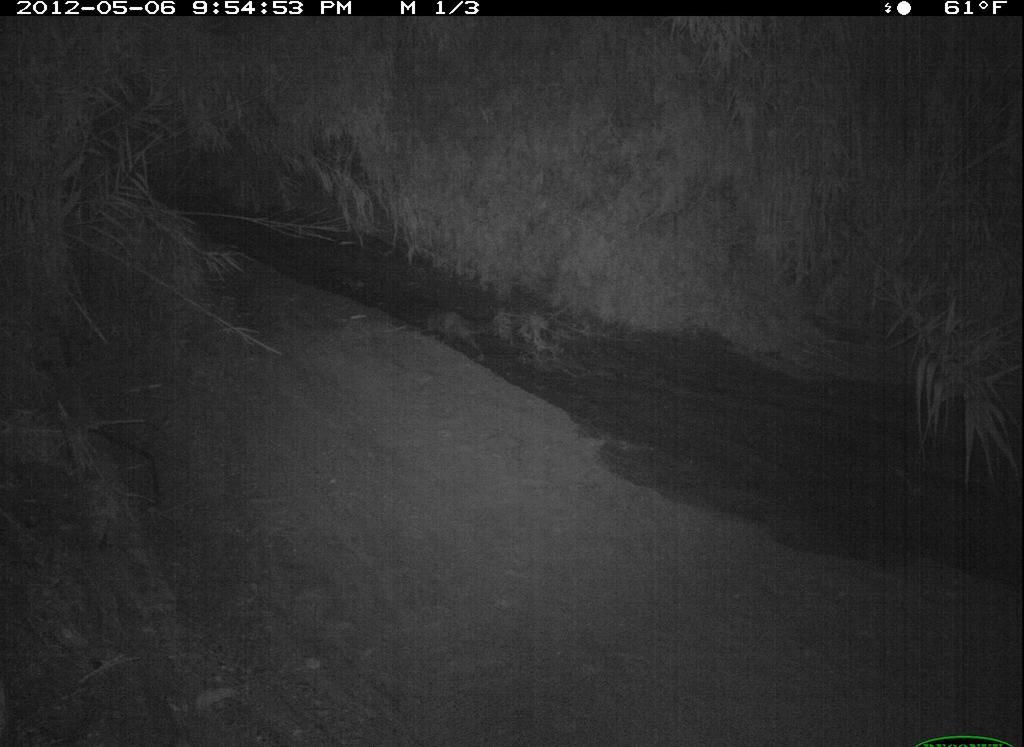opossum: (837, 604, 1023, 743)
